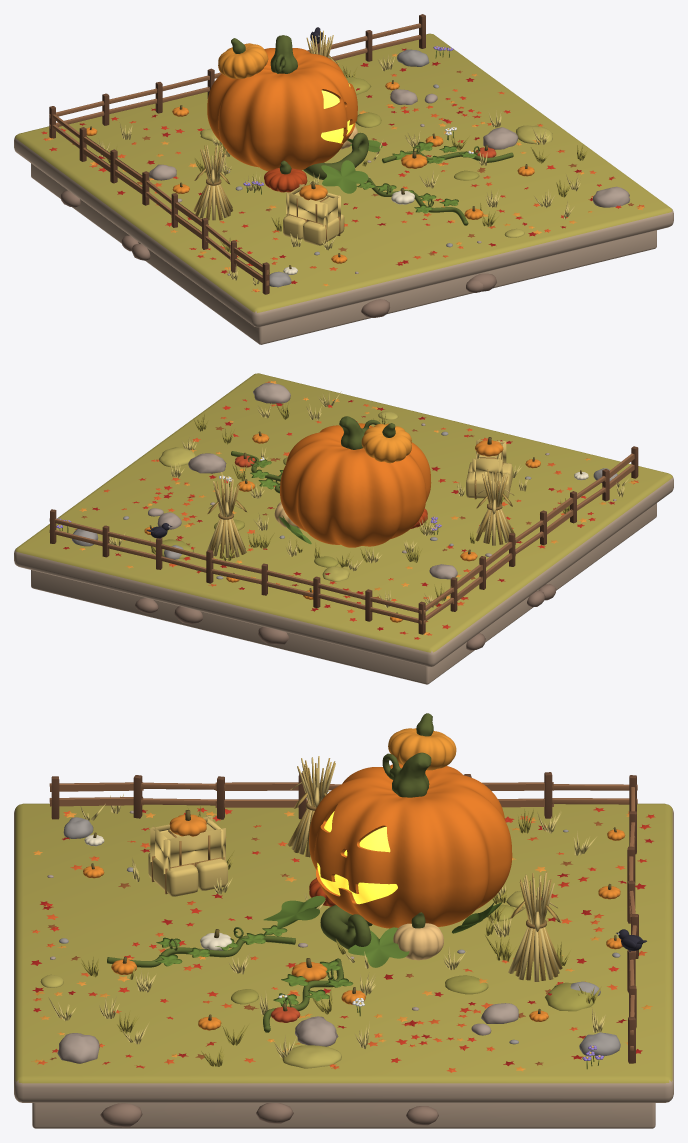
File: pumpkin.glb
The picture shows the model from 3 angles, top to bottom: view 1: azimuth 30°, elevation 25°; view 2: azimuth 150°, elevation 25°; view 3: azimuth 270°, elevation 25°; orthographic projection. The views are drawn at different scales.
Parts seen in each view (by area): view 1: Base, Blossoms, Fence, Grass, Leaves, Rocks, HayBales, PatchVines, CornShocks, Trunk, Gourds; view 2: Base, Blossoms, Fence, Grass, CornShocks, Rocks, Leaves, HayBales, Gourds, Trunk, PatchVines; view 3: Base, Blossoms, Fence, Grass, HayBales, PatchVines, Leaves, CornShocks, Rocks, Trunk, Gourds.
Boxes of the visible parts, left/top/right/bottom form: Base: left=14, top=33, right=673, bottom=344; Blossoms: left=207, top=43, right=382, bottom=193; Fence: left=49, top=14, right=425, bottom=294; Grass: left=97, top=54, right=588, bottom=285; Leaves: left=41, top=48, right=644, bottom=291; Rocks: left=96, top=49, right=629, bottom=287; HayBales: left=283, top=181, right=344, bottom=245; PatchVines: left=357, top=141, right=513, bottom=225; CornShocks: left=193, top=30, right=338, bottom=220; Trunk: left=231, top=35, right=368, bottom=179; Gourds: left=86, top=80, right=534, bottom=275; Base: left=14, top=373, right=673, bottom=684; Blossoms: left=274, top=423, right=431, bottom=547; Fence: left=49, top=446, right=638, bottom=634; Grass: left=109, top=391, right=628, bottom=607; CornShocks: left=207, top=469, right=514, bottom=558; Rocks: left=72, top=382, right=617, bottom=611; Leaves: left=63, top=380, right=638, bottom=639; HayBales: left=466, top=437, right=512, bottom=499; Gourds: left=144, top=431, right=588, bottom=622; Trunk: left=339, top=416, right=395, bottom=449; PatchVines: left=231, top=451, right=283, bottom=493; Base: left=14, top=803, right=673, bottom=1128; Blossoms: left=263, top=728, right=512, bottom=967; Fence: left=49, top=772, right=638, bottom=1063; Grass: left=40, top=794, right=605, bottom=1068; HayBales: left=148, top=810, right=227, bottom=896; PatchVines: left=107, top=925, right=353, bottom=1032; Leaves: left=31, top=807, right=655, bottom=1072; CornShocks: left=287, top=756, right=562, bottom=981; Rocks: left=47, top=810, right=620, bottom=1063; Trunk: left=320, top=713, right=433, bottom=949; Gourds: left=83, top=827, right=625, bottom=1030.
Bounding box in the file's own units: 72 × 28.02 × 72.
